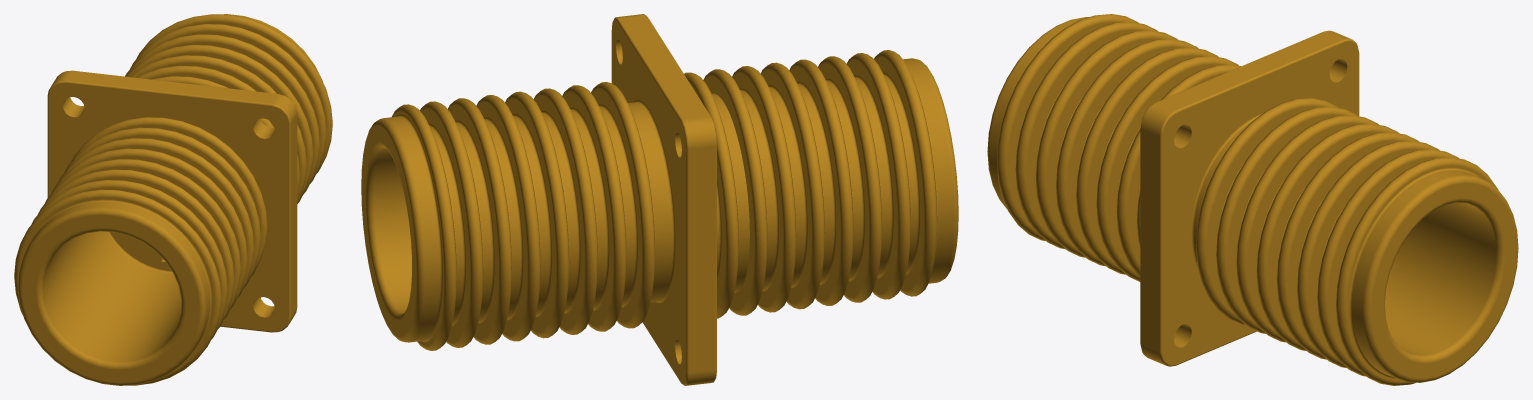
File: 04.3_izolyator-prokhodnoy-ip-10-100x100x255.glb
3 views of the same model, side by side, from view 1: azimuth 30°, elevation 25°; view 2: azimuth 150°, elevation 25°; view 3: azimuth 270°, elevation 25° (orthographic). The views are drawn at different scales.
Parts seen in each view (by area): view 1: 04.3_izolyator-prokhodnoy-ip-10-100x100x255; view 2: 04.3_izolyator-prokhodnoy-ip-10-100x100x255; view 3: 04.3_izolyator-prokhodnoy-ip-10-100x100x255.
Part boxes in pixels (x1=…): 04.3_izolyator-prokhodnoy-ip-10-100x100x255: x1=14, y1=14, x2=332, y2=385; 04.3_izolyator-prokhodnoy-ip-10-100x100x255: x1=361, y1=14, x2=958, y2=385; 04.3_izolyator-prokhodnoy-ip-10-100x100x255: x1=987, y1=14, x2=1518, y2=385.
Bounding box in the file's own units: 0.2414 × 0.128 × 0.2414.
